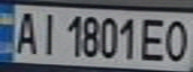0: (100, 13, 121, 60)
1: (118, 15, 142, 61), (60, 11, 84, 57)
8: (78, 12, 103, 59)
A: (9, 8, 42, 55)
E: (136, 15, 172, 63)
I: (36, 9, 60, 56)
O: (160, 16, 193, 63)
